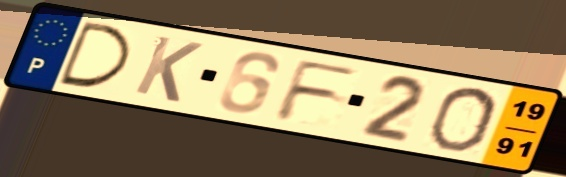2: (359, 75, 428, 145)
6: (215, 51, 283, 116)
D: (55, 19, 134, 91)
F: (270, 57, 364, 123)
K: (130, 32, 207, 106)
O: (424, 86, 501, 153)
